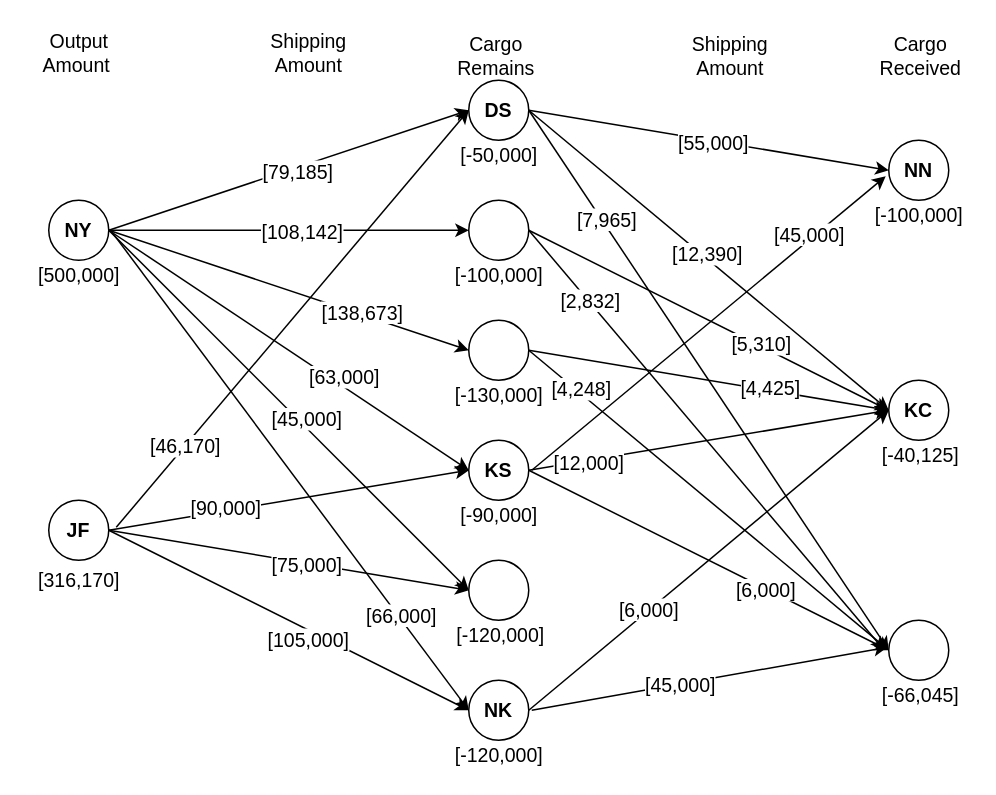
The diagram is 996 pixels wide and 795 high, and some of its shapes have lost their labels. Each missing label, with the box of its shape:
LA: (467, 319, 529, 380)
LG: (467, 199, 529, 260)
LZ: (467, 559, 529, 620)
NC: (887, 619, 949, 680)
